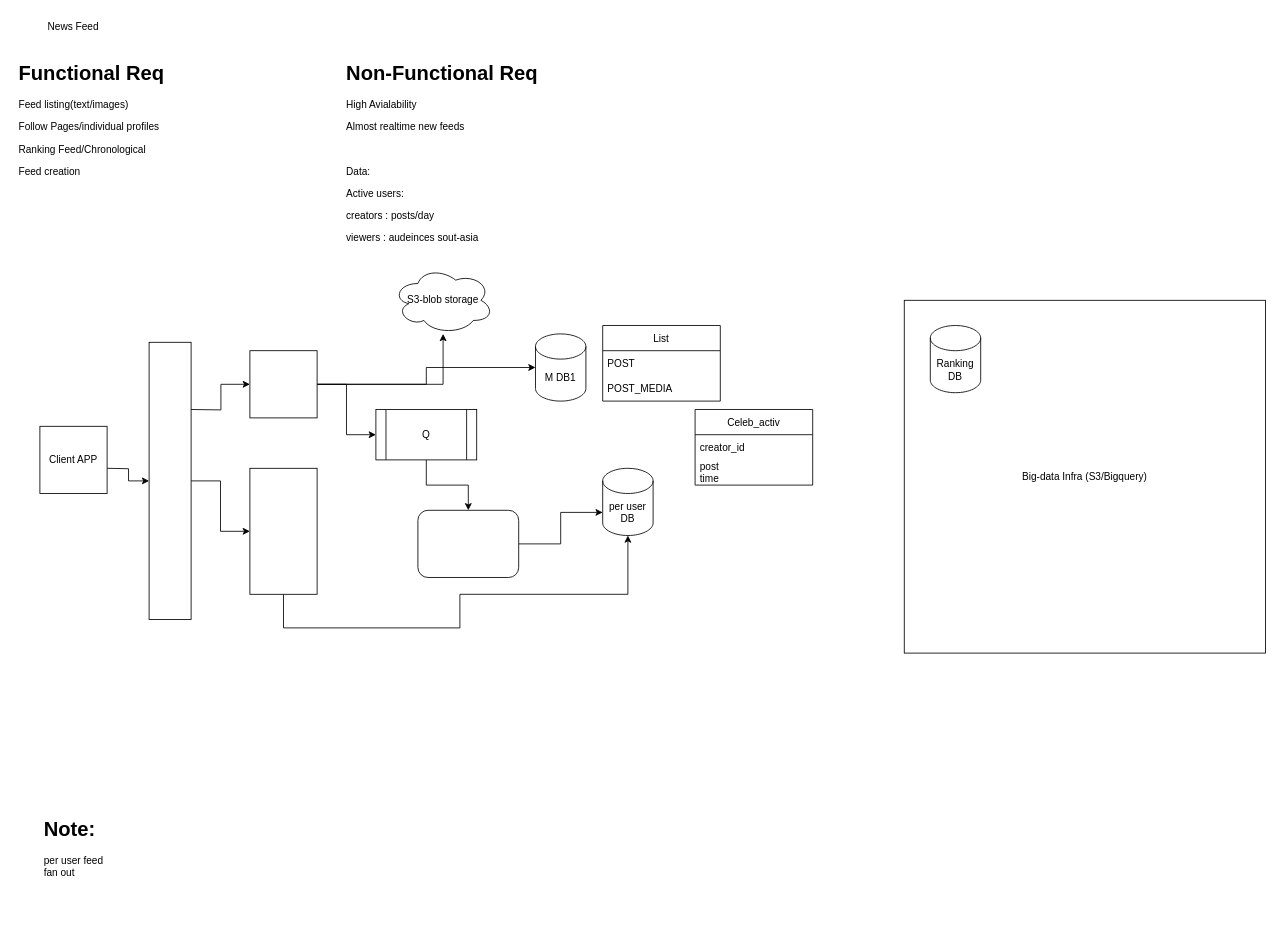
This 1280x927 diagram has some shape labels left out. Each missing label, with the centre of its shape:
"Feed processor" belongs at [468,543].
"Feed Reader Service /gen /ondemand" belongs at [283,530].
"Feed Writer Service" belongs at [283,384].
"Load Balancer" belongs at [169,480].
